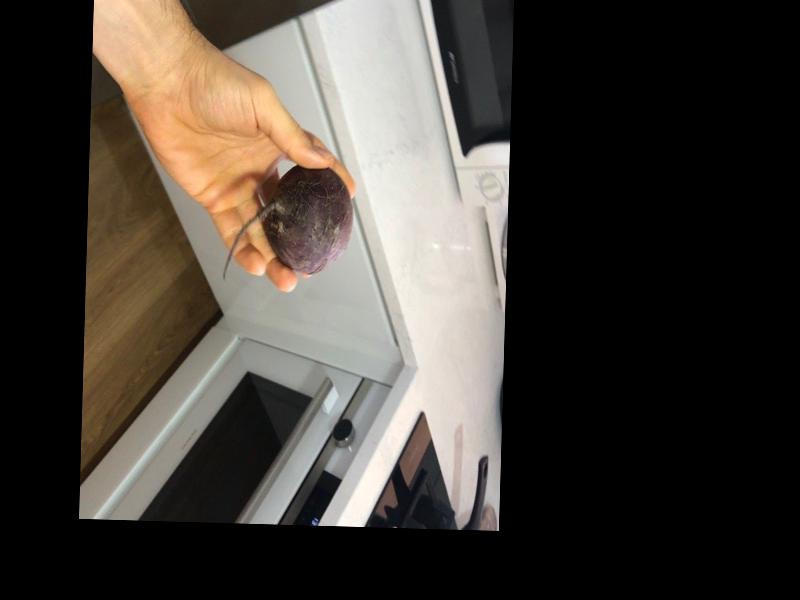Beet: (222, 163, 354, 286)
